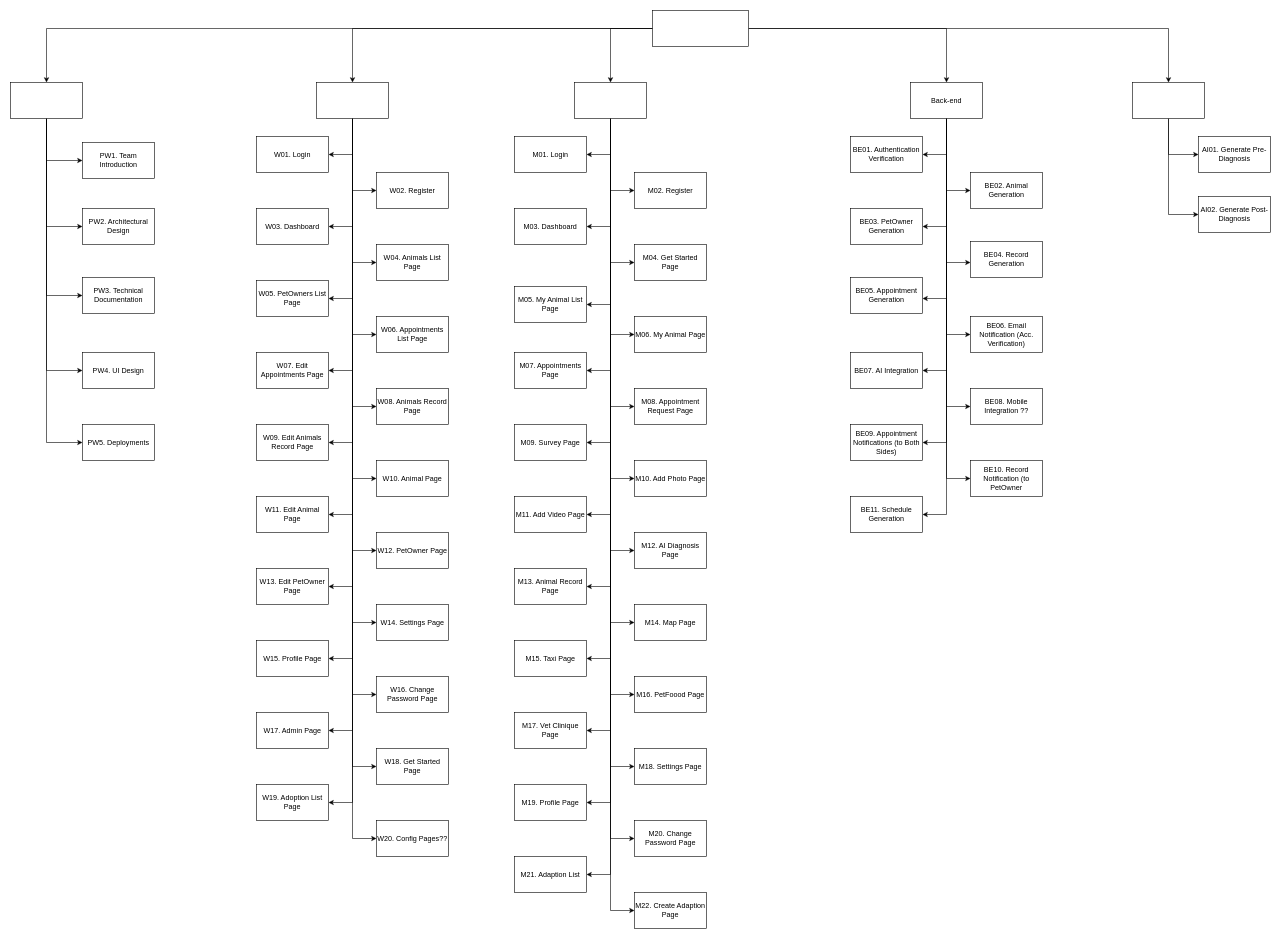
This 1281x939 diagram has some shape labels left out. The shapes that lost their labels are listed below. From the top down, each one's box as (x1, y1, x2, y2) in pixels, then its label:
(652, 10, 748, 46): Pet Care SaaS Platform
(10, 82, 82, 118): Preliminary Work
(316, 82, 388, 118): Web
(574, 82, 646, 118): Mobile
(1132, 82, 1204, 118): AI
